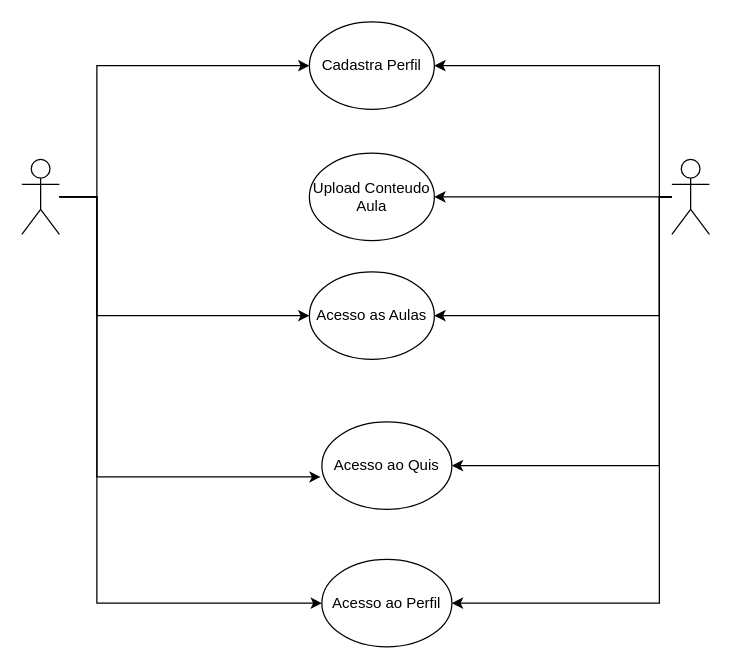
This 740x669 diagram has some shape labels left out. Here are the shapes that lost their labels. From the top down, the centre of each, then its label:
At pixel 40 196: "Aluno".
At pixel 690 196: "Docente".
